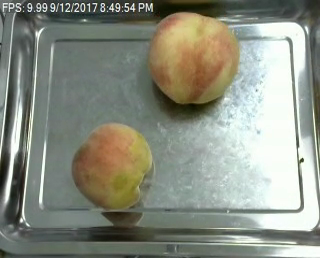Peach: (148, 10, 240, 105), (70, 123, 153, 211)
